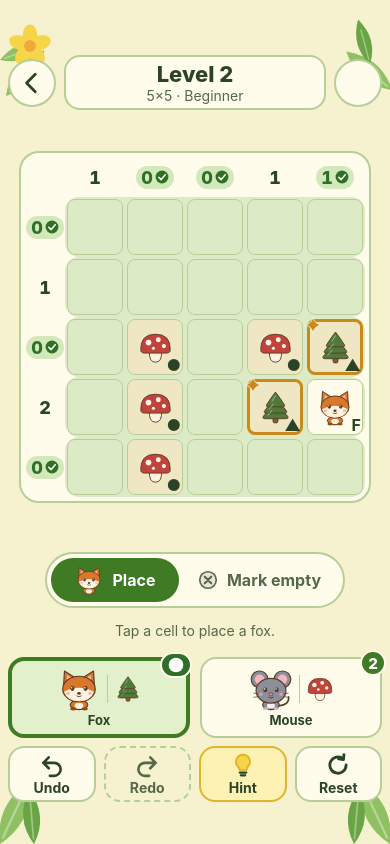
Scenario: PuzzleScreen › undo and redo restore the board
Earlier steps of the test are not shown.
Click the button with test id "tool-mouse" at (291, 698), box [200,657,382,738]
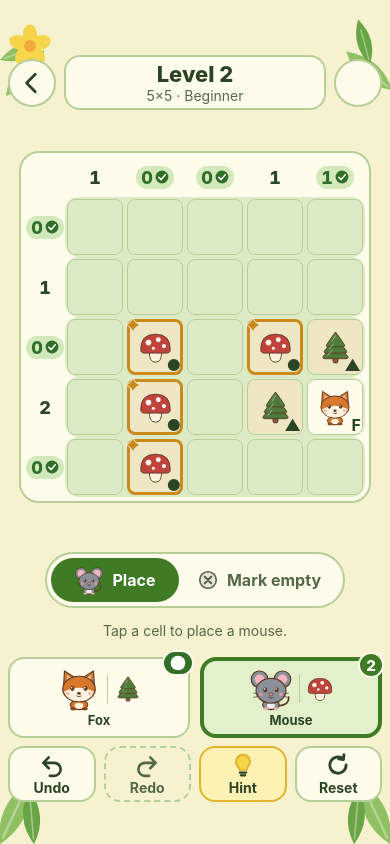
Click the button named "Row 2, column 4: unmarked" at (275, 287), box [245,257,305,317]
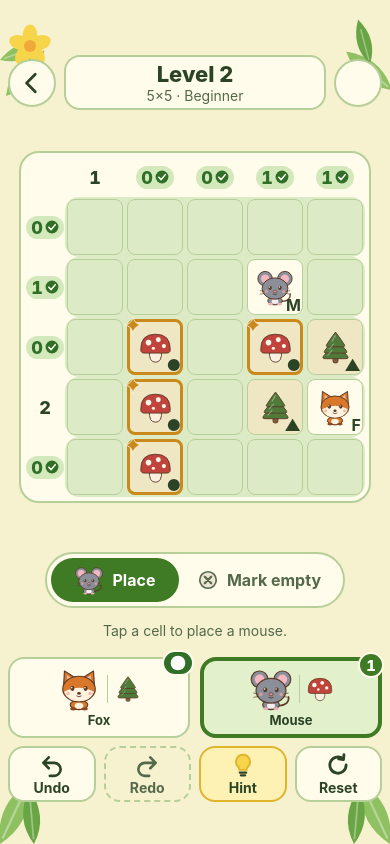
Click the button with test id "action-undo" at (52, 774), box [8,746,96,802]
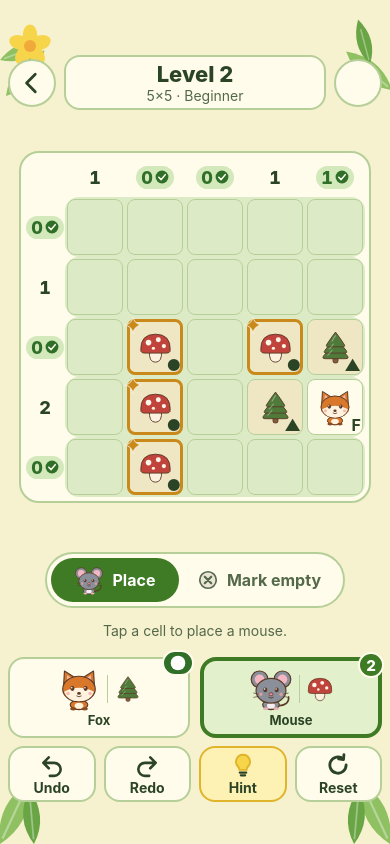
Now the button with test id "action-redo" is enabled, box [104,746,191,802]
Click the button with test id "action-undo" at (52, 774), box [8,746,96,802]
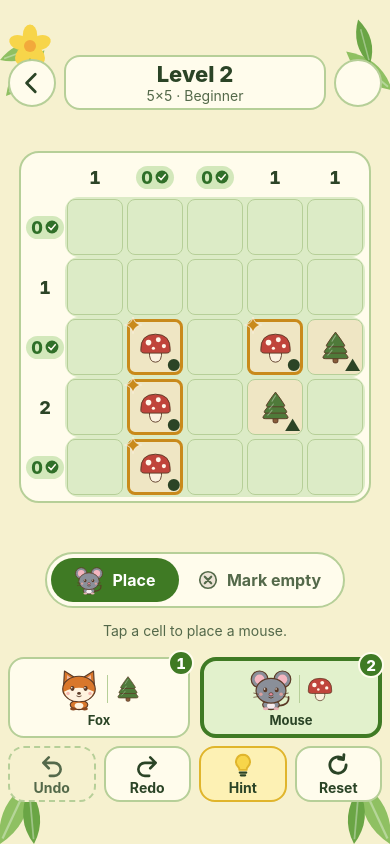
Now the button with test id "action-undo" is disabled, box [8,746,96,802]
Click the button with test id "action-redo" at (147, 774), box [104,746,191,802]
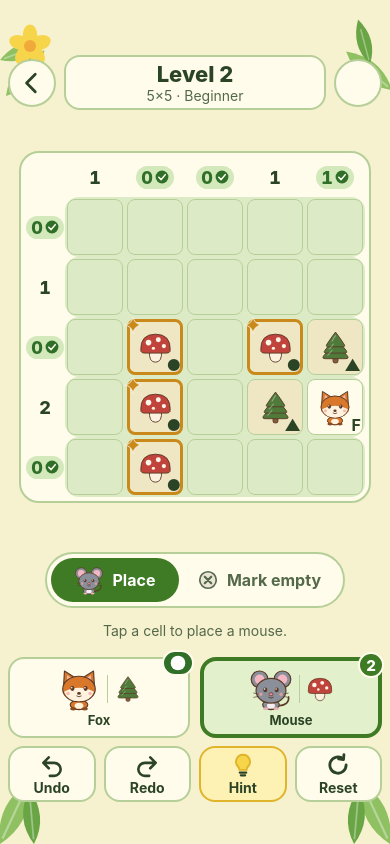
Click the button with test id "action-redo" at (147, 774), box [104,746,191,802]
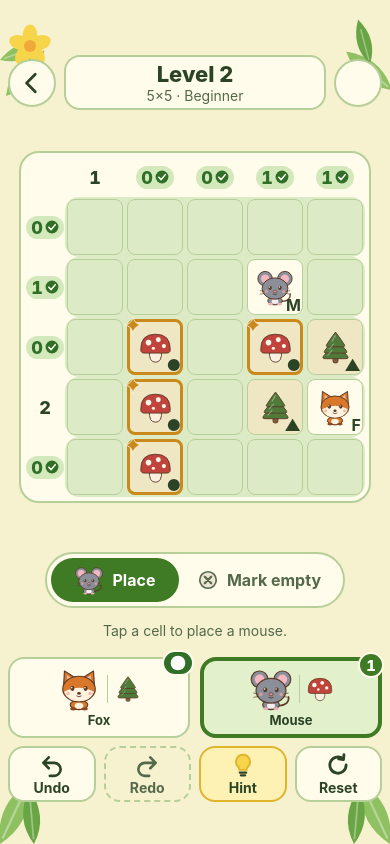
Now the button with test id "action-redo" is disabled, box [104,746,191,802]
